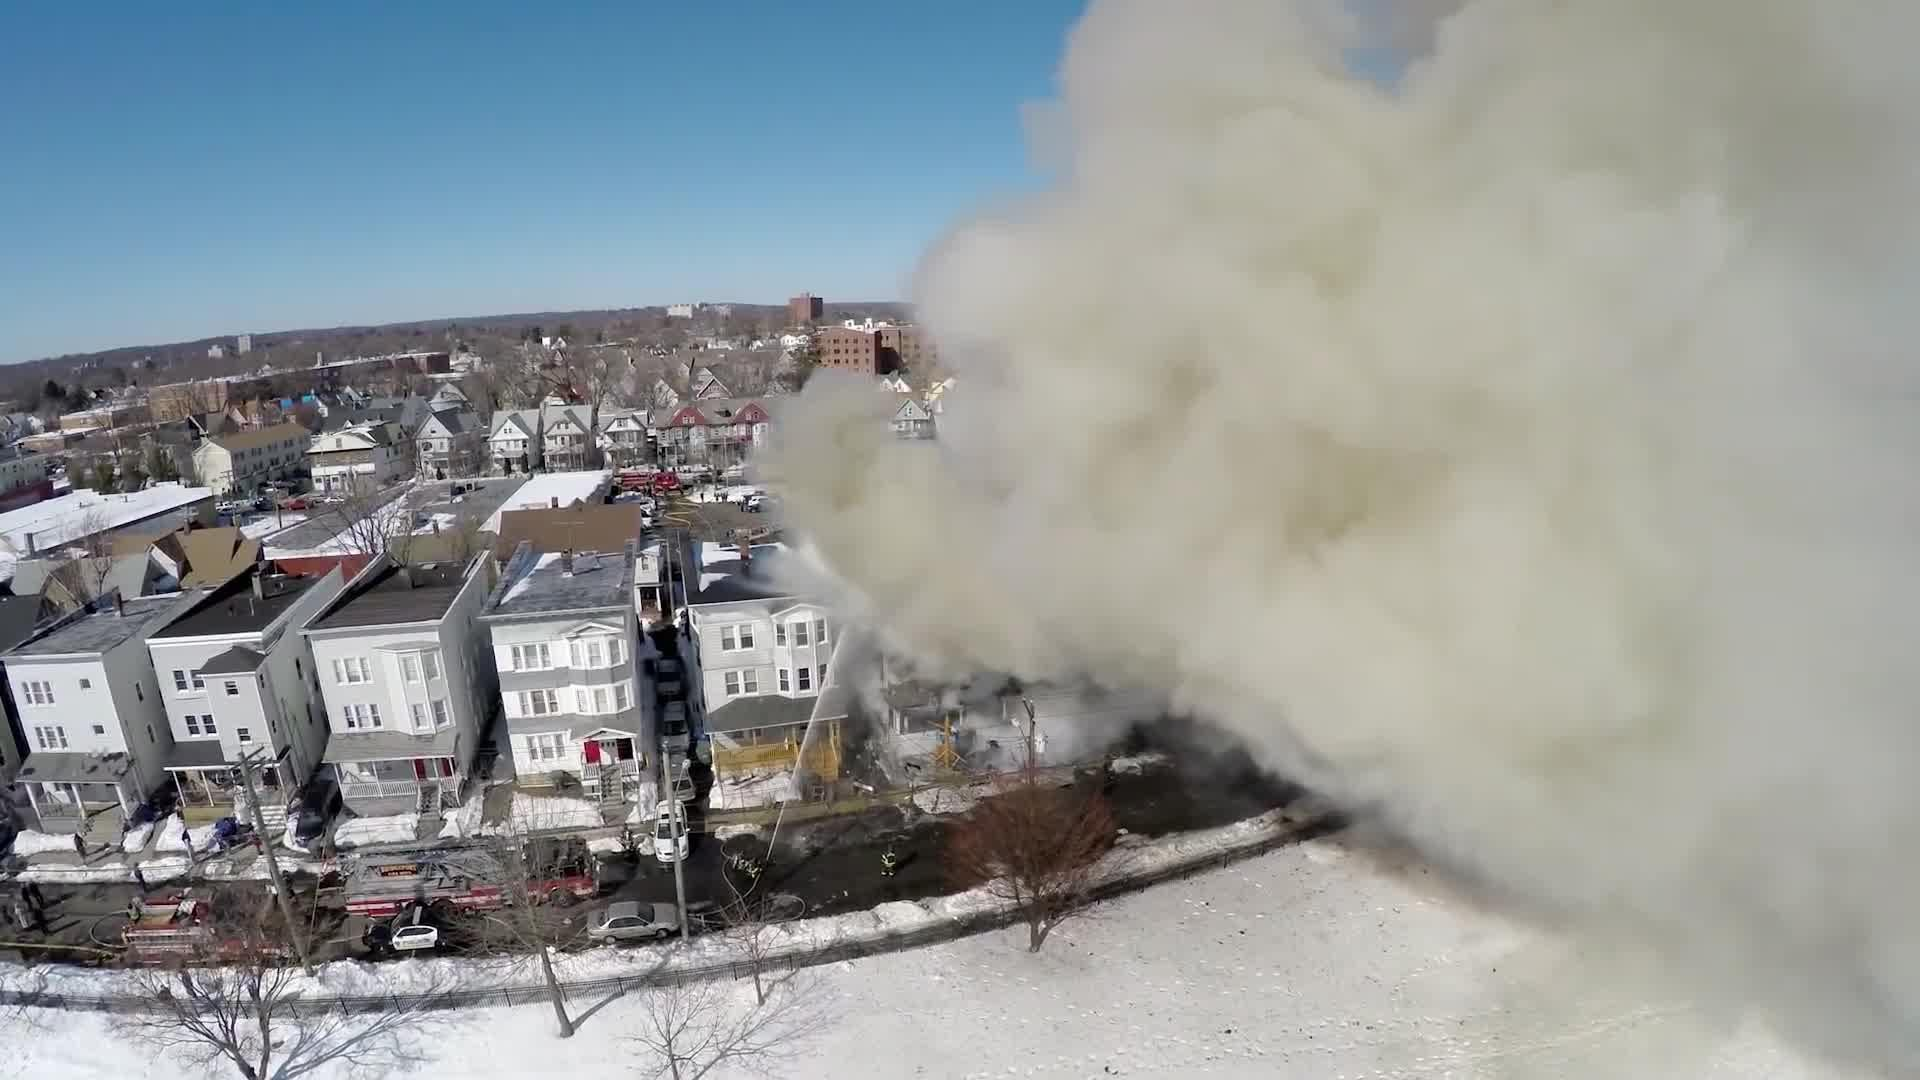smoke: (1033, 190, 1920, 770)
